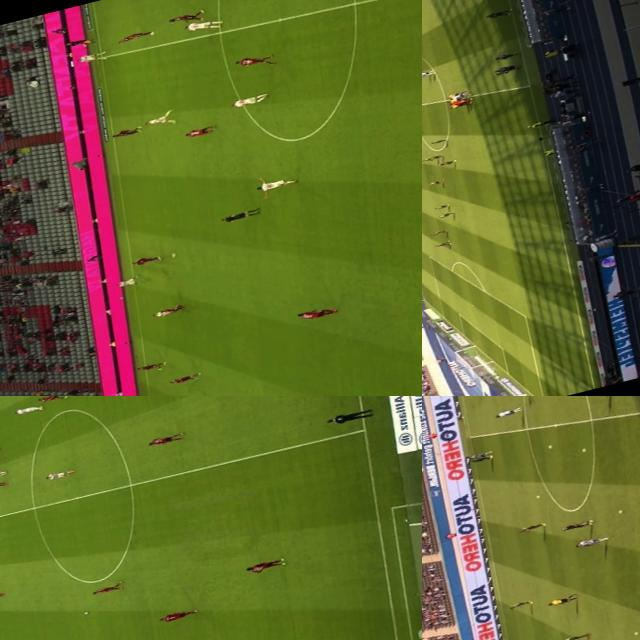ball: (77, 607, 93, 618), (167, 248, 180, 258), (614, 508, 626, 514), (544, 443, 554, 449), (630, 630, 640, 636), (533, 492, 540, 498), (580, 447, 588, 452), (637, 564, 640, 570)
player: (241, 552, 290, 578), (233, 50, 278, 74), (180, 14, 224, 36), (294, 301, 339, 322), (254, 173, 300, 193), (142, 106, 179, 130), (158, 605, 199, 624), (230, 90, 272, 108), (168, 8, 206, 27), (143, 432, 185, 449), (166, 369, 203, 387), (115, 28, 156, 44), (134, 357, 170, 375), (108, 122, 144, 139), (38, 466, 76, 481), (75, 48, 110, 64), (183, 122, 218, 138), (90, 581, 122, 598), (12, 401, 45, 417), (113, 272, 143, 288), (150, 304, 184, 318), (574, 534, 608, 548), (562, 518, 596, 532), (130, 252, 161, 267), (489, 405, 522, 419), (515, 520, 548, 534), (158, 300, 188, 314), (558, 629, 589, 640), (449, 94, 474, 107), (469, 451, 494, 464), (509, 597, 533, 608), (33, 396, 68, 403), (467, 449, 492, 458), (427, 227, 448, 237), (430, 238, 450, 248), (436, 157, 456, 167), (448, 90, 468, 100), (426, 136, 448, 145), (430, 202, 450, 210), (422, 67, 435, 77), (437, 210, 453, 218), (427, 178, 445, 185), (0, 478, 8, 492), (422, 154, 435, 162), (428, 154, 442, 160), (422, 71, 429, 78)
